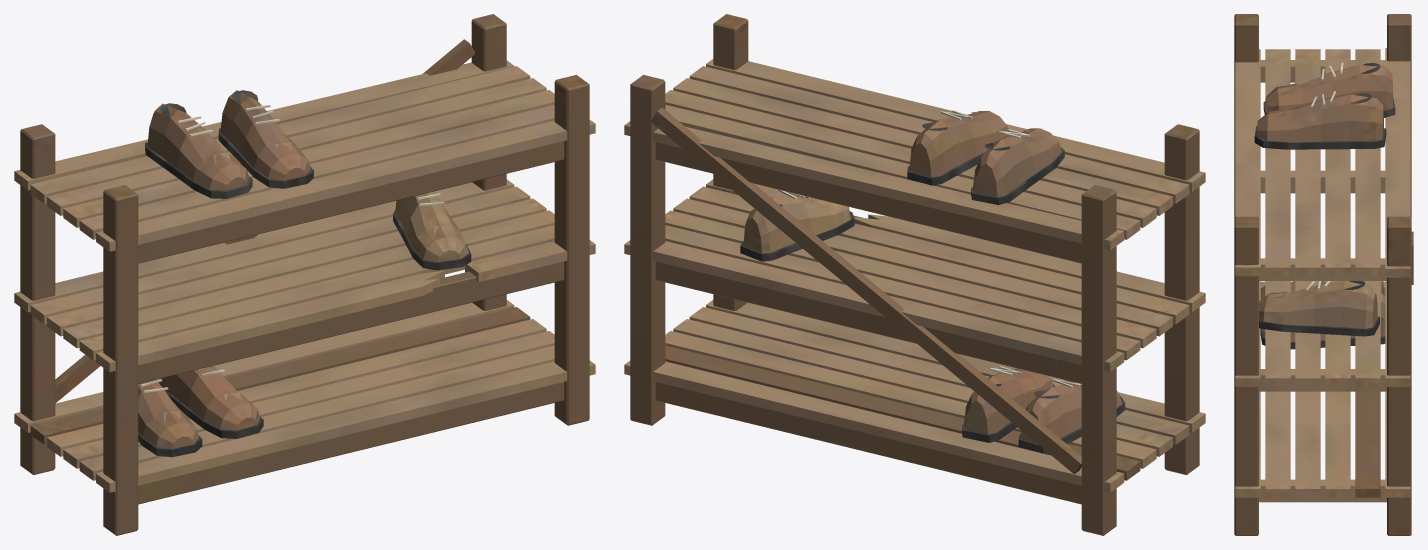
The model's file is L21_shoe_rack.glb.
3 views of the same model, side by side, from view 1: azimuth 30°, elevation 25°; view 2: azimuth 150°, elevation 25°; view 3: azimuth 270°, elevation 25° (orthographic). The views are drawn at different scales.
Visible parts, largest first — view 1: Square hardwood upright; view 2: Square hardwood upright; view 3: Square hardwood upright.
Part boxes in pixels (<box>): Square hardwood upright: <box>14,14,595,535</box>; Square hardwood upright: <box>624,14,1205,535</box>; Square hardwood upright: <box>1234,14,1413,535</box>.
Bounding box in the file's own units: 1 × 0.6785 × 0.3474.
7 materials, 7 textured.
